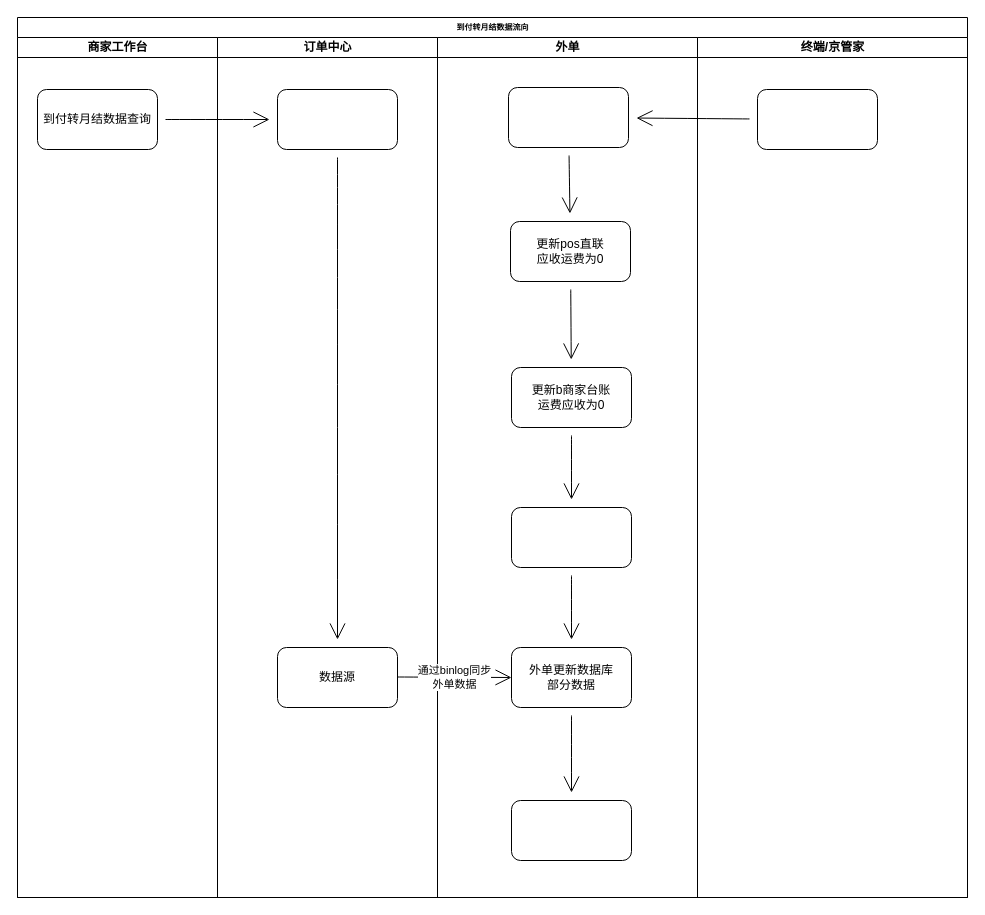
Image size: 985x915. Some labels were removed from this diagram. The shapes that lost their labels are listed below. From the top down, each one's centre as x and y in pixels, then its label:
(337,119): 提供数据
(568,117): 到付转月结接口 传结算商家编码
(817,119): 妥投前操作 到付转月结
(571,537): 更改标位25=5 并更新运单结算商家
(571,830): 发送积分回滚MQ：ldop_c2c_integral_rollback
